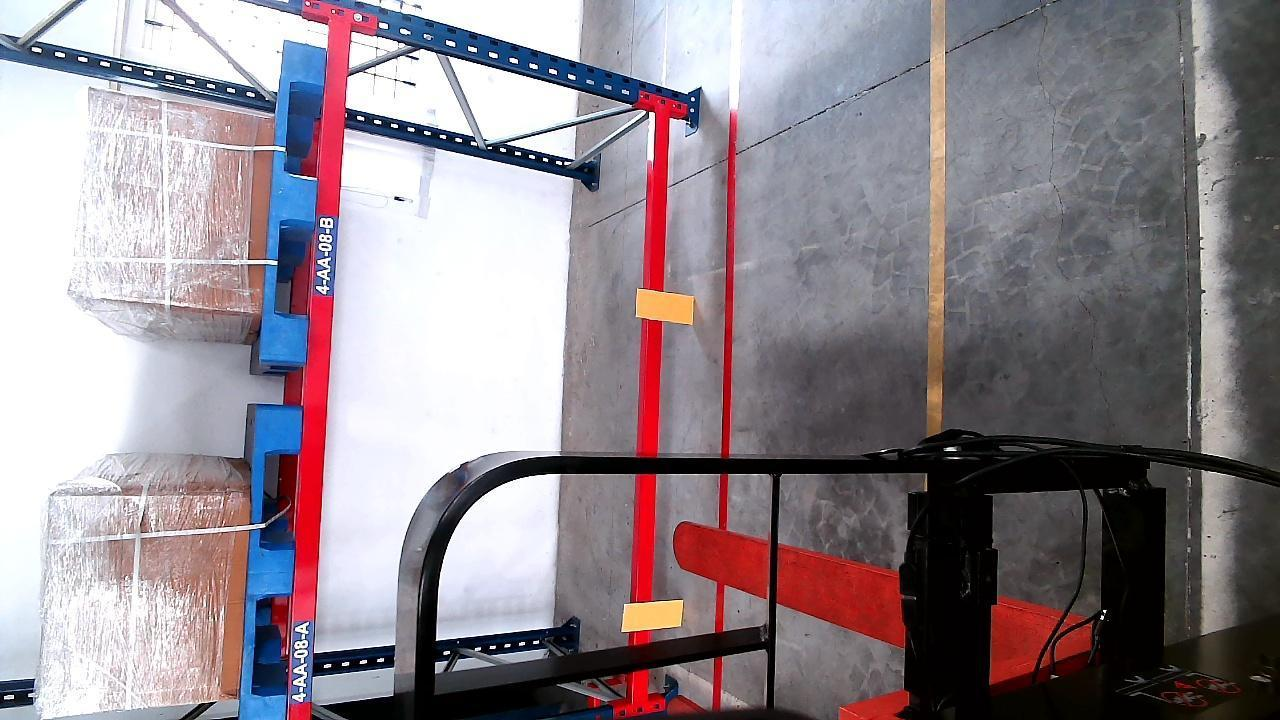h_rack: (291, 17, 349, 719), (630, 113, 673, 699)
orange_strip: (624, 599, 685, 631), (640, 291, 693, 322)
red_line: (707, 108, 738, 700)
small_pallet: (265, 38, 326, 361), (239, 409, 300, 719)
yellow_line: (925, 7, 949, 425)
